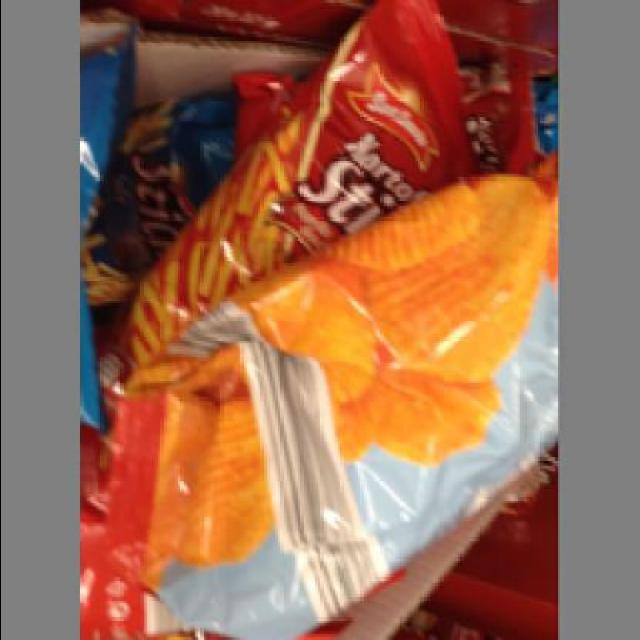Chips: (160, 174, 557, 637)
